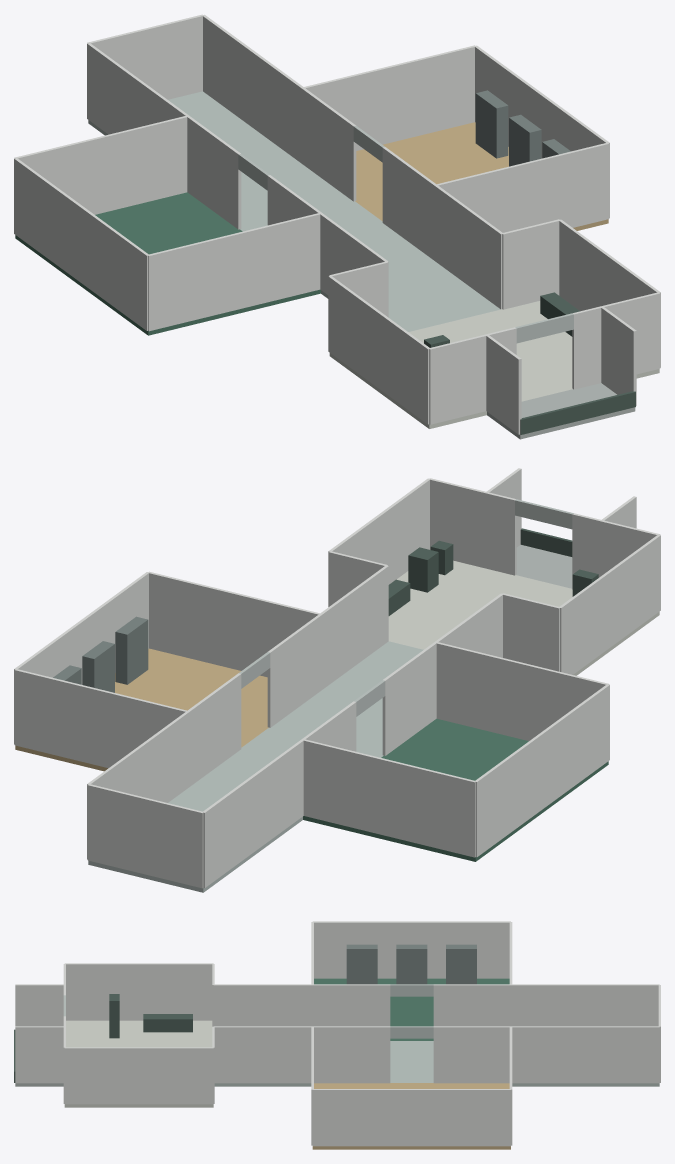
Rendered from foundation-v1.glb.
The picture shows the model from 3 angles, top to bottom: view 1: azimuth 30°, elevation 25°; view 2: azimuth 150°, elevation 25°; view 3: azimuth 270°, elevation 25°; orthographic projection. The views are drawn at different scales.
Parts seen in each view (by area): view 1: corridor_floor, west_store_south, west_store_back, west_store_north, east_store_north, east_store_south, west_atrium, east_corridor_north, atrium_floor, newmoon_floor, sample_floor, corridor_end (+21 smaller); view 2: west_store_north, west_store_back, east_store_north, west_store_south, east_store_south, corridor_floor, corridor_end, west_corridor_north, west_atrium, atrium_floor, newmoon_floor, east_arrival (+22 smaller); view 3: east_store_back, east_atrium, east_corridor_north, west_store_back, west_atrium, west_corridor_north, east_corridor_south, east_front_north, east_front_south, west_corridor_south, atrium_floor, west_front_south (+14 smaller).
Part boxes in pixels (x1,y1,x2,y2): corridor_floor: (88,91,500,331); west_store_south: (148,213,321,331); west_store_back: (14,158,149,330); west_store_north: (15,116,187,214); east_store_north: (303,45,475,150); east_store_south: (437,143,609,232); west_atrium: (328,276,429,424); east_corridor_north: (202,14,303,163); atrium_floor: (329,301,659,428); newmoon_floor: (15,192,320,335); sample_floor: (355,122,608,230); corridor_end: (87,14,203,99); west_store_north: (303,739,475,857); west_store_back: (474,684,609,857); east_store_north: (14,669,187,768); west_store_south: (435,642,609,740); east_store_south: (147,571,321,677); corridor_floor: (88,641,423,892); corridor_end: (87,784,203,888); west_corridor_north: (202,739,303,887); west_atrium: (559,534,660,674); atrium_floor: (388,560,659,675); newmoon_floor: (303,718,608,861); east_arrival: (429,478,516,575); east_store_back: (312,1089,510,1146); east_atrium: (64,1047,213,1104); east_corridor_north: (511,1026,659,1083); west_store_back: (312,921,510,978); west_atrium: (64,963,213,1020); west_corridor_north: (511,984,659,1026); east_corridor_south: (214,1026,312,1083); east_front_north: (433,1026,510,1083); east_front_south: (313,1026,390,1083); west_corridor_south: (213,984,312,1026); atrium_floor: (64,1020,213,1107); west_front_south: (312,984,390,1026).
Bounding box in the file's own units: 19.32 × 3.2 × 31.32.
